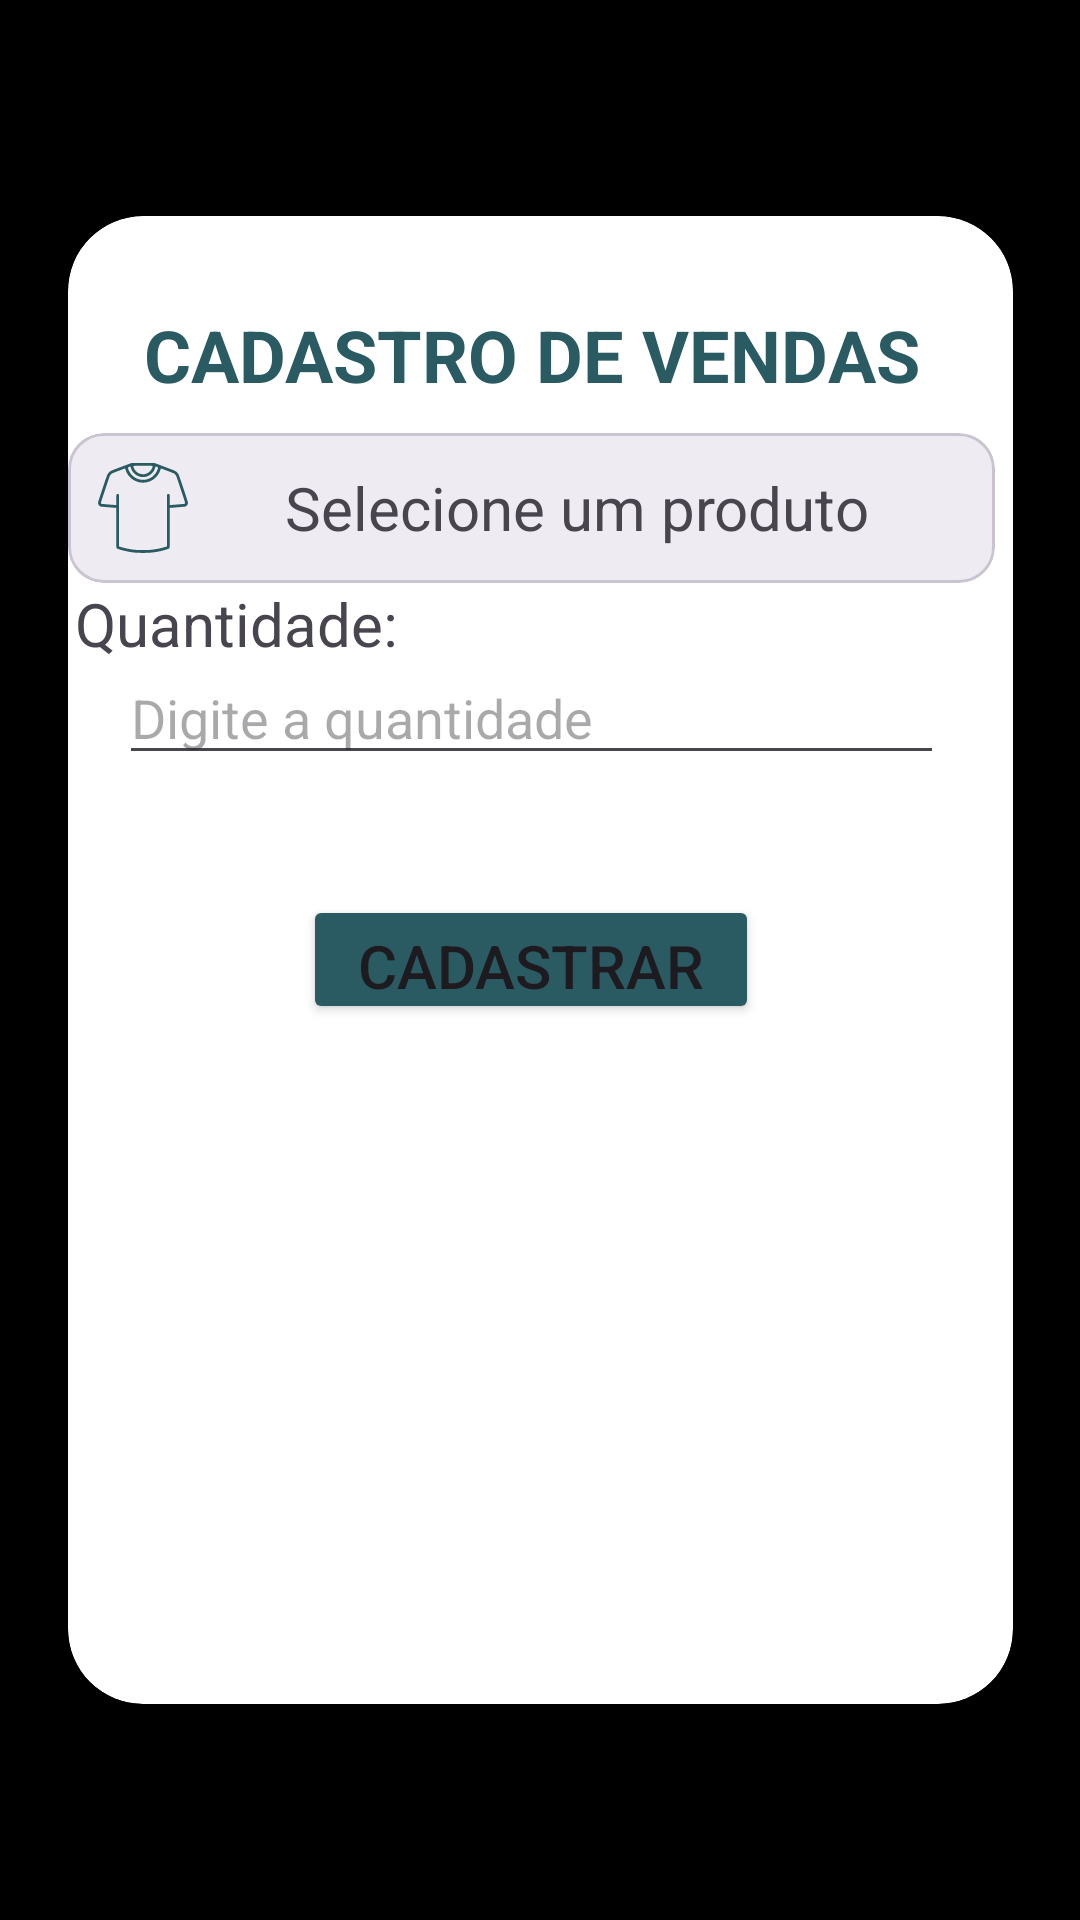

Icon bounding boxes for this 1080px×1920px phone screenshot, format (x1, y1, x2, y2):
camiseta: (98, 463, 188, 553)
